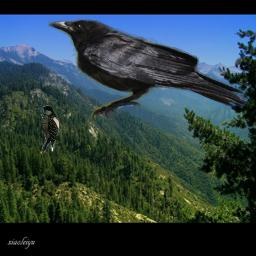Crow: (48, 18, 248, 120)
Woodpecker: (40, 105, 59, 154)
